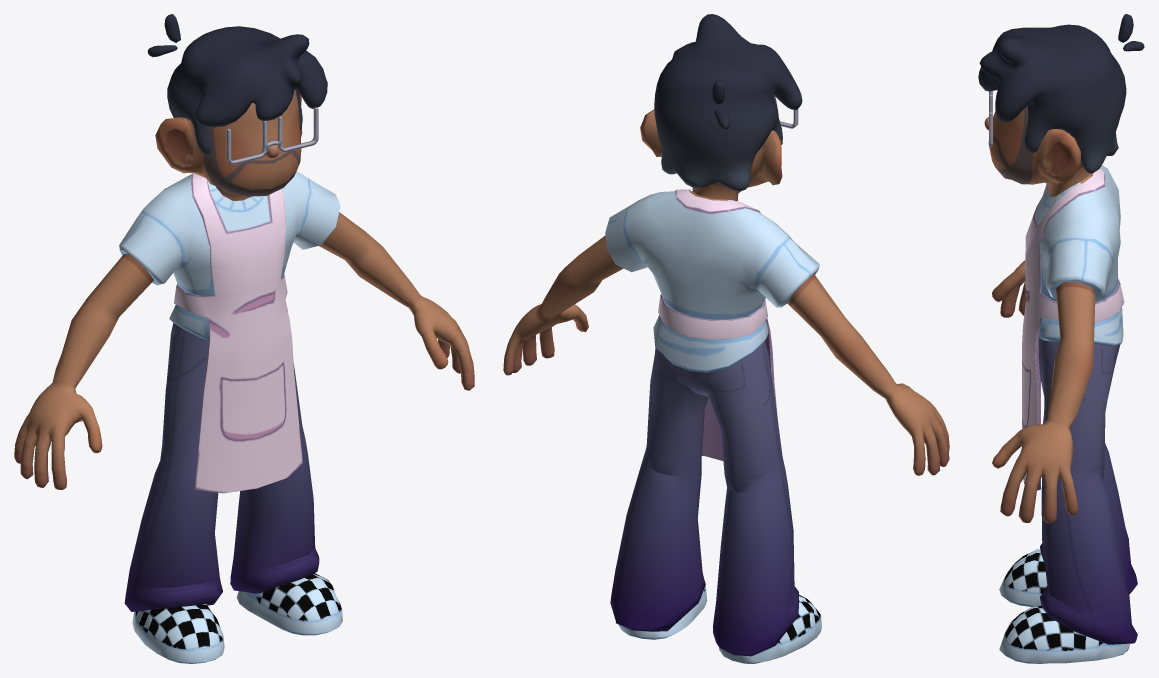
Rendered from SK_Coco_geo.fbx.
3 renders of one model, left to right at view 1: azimuth 30°, elevation 25°; view 2: azimuth 150°, elevation 25°; view 3: azimuth 270°, elevation 25°, orthographic. The views are drawn at different scales.
Parts seen in each view (by area): view 1: SK_Coco_geo; view 2: SK_Coco_geo; view 3: SK_Coco_geo.
Boxes of the visible parts, x1,y1,x2,y2 form: SK_Coco_geo: (14, 14, 474, 663); SK_Coco_geo: (503, 14, 949, 663); SK_Coco_geo: (978, 14, 1144, 663).
Bounding box in the file's own units: 126 × 164 × 41.25.
